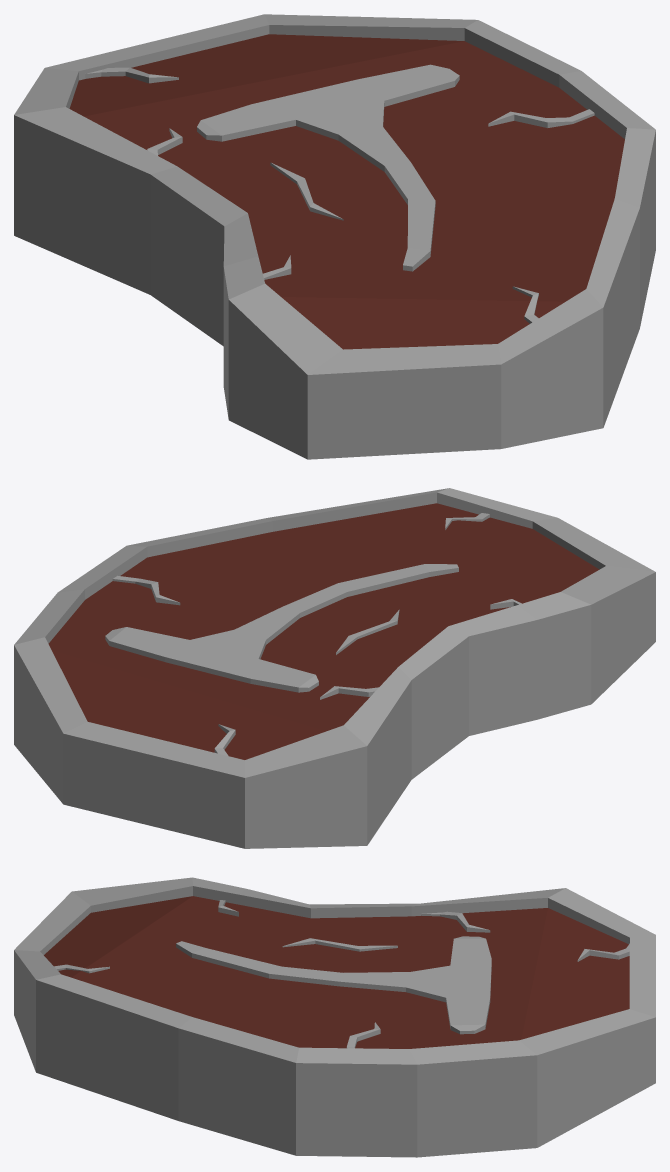
The model's file is Steak.glb.
3 renders of one model, top to bottom at view 1: azimuth 30°, elevation 25°; view 2: azimuth 150°, elevation 25°; view 3: azimuth 270°, elevation 25°, orthographic. The views are drawn at different scales.
Visible parts, largest first — view 1: Steak; view 2: Steak; view 3: Steak.
Part boxes in pixels (x1,y1,x2,y2): Steak: [14, 14, 655, 459]; Steak: [14, 488, 655, 848]; Steak: [14, 877, 655, 1157].
Size of the model in its own units: 1.32 by 0.3397 by 1.91.
